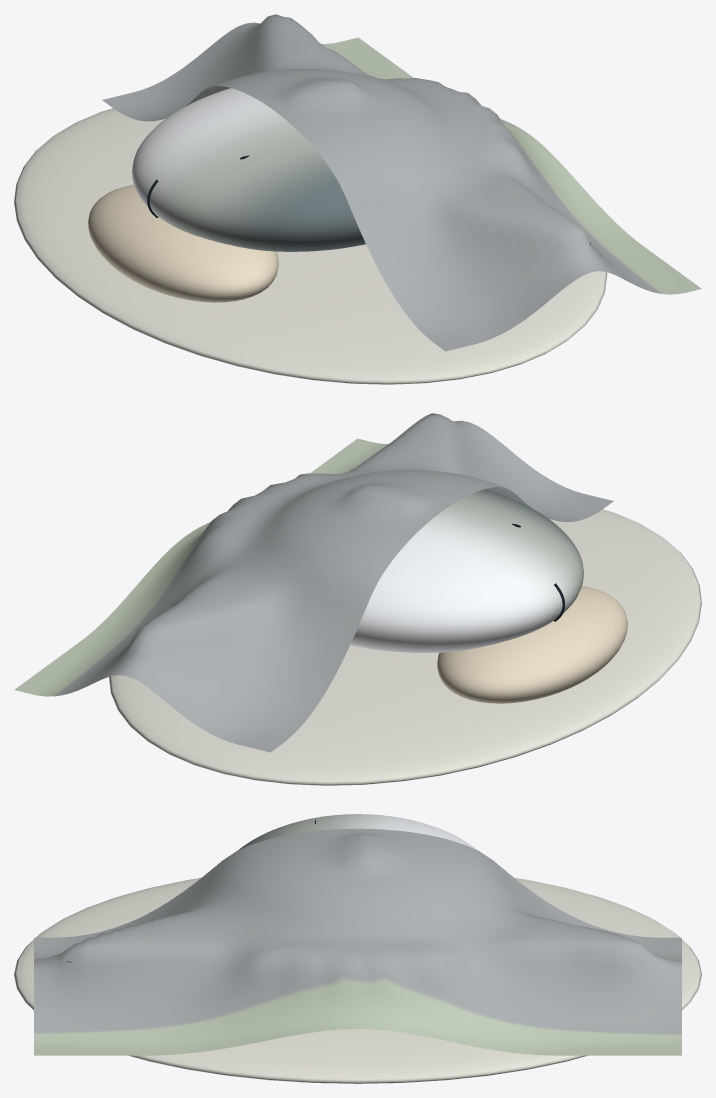
The model's file is covered.glb.
The picture shows the model from 3 angles, top to bottom: view 1: azimuth 30°, elevation 25°; view 2: azimuth 150°, elevation 25°; view 3: azimuth 270°, elevation 25°; orthographic projection. The views are drawn at different scales.
Visible parts, largest first — view 1: KiabouBlanket, KiabouBed, KiabouRestBody, KiabouPillow; view 2: KiabouBlanket, KiabouBed, KiabouRestBody, KiabouPillow; view 3: KiabouBlanket, KiabouBed, KiabouRestBody.
Part boxes in pixels (left/top/right/bottom): KiabouBlanket: left=102, top=14, right=701, bottom=351; KiabouBed: left=14, top=108, right=607, bottom=384; KiabouRestBody: left=132, top=88, right=590, bottom=251; KiabouPillow: left=88, top=185, right=278, bottom=302; KiabouBlanket: left=14, top=413, right=613, bottom=752; KiabouBed: left=109, top=509, right=701, bottom=785; KiabouRestBody: left=350, top=489, right=583, bottom=652; KiabouPillow: left=437, top=586, right=627, bottom=703; KiabouBlanket: left=34, top=828, right=681, bottom=1055; KiabouBed: left=14, top=878, right=701, bottom=1083; KiabouRestBody: left=66, top=814, right=477, bottom=962.
Bounding box in the file's own units: 0.228 × 0.0768 × 0.308.
Materials: 7 (3 with a texture image).
